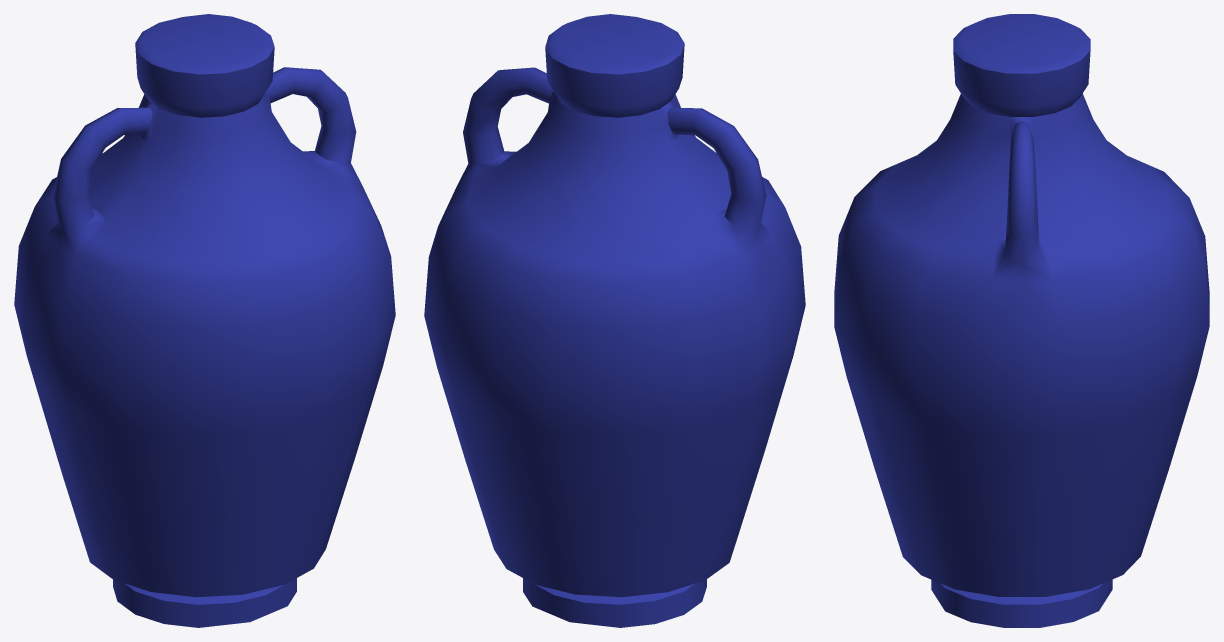
The model's file is vaso6.fbx.
3 views of the same model, side by side, from view 1: azimuth 30°, elevation 25°; view 2: azimuth 150°, elevation 25°; view 3: azimuth 270°, elevation 25° (orthographic).
Parts seen in each view (by area): view 1: vaso_hunit4; view 2: vaso_hunit4; view 3: vaso_hunit4.
Part boxes in pixels (left/top/right/bottom): vaso_hunit4: left=14, top=14, right=395, bottom=627; vaso_hunit4: left=424, top=14, right=805, bottom=627; vaso_hunit4: left=834, top=14, right=1209, bottom=627.
Bounding box in the file's own units: 0.7617 × 1.23 × 0.761.
